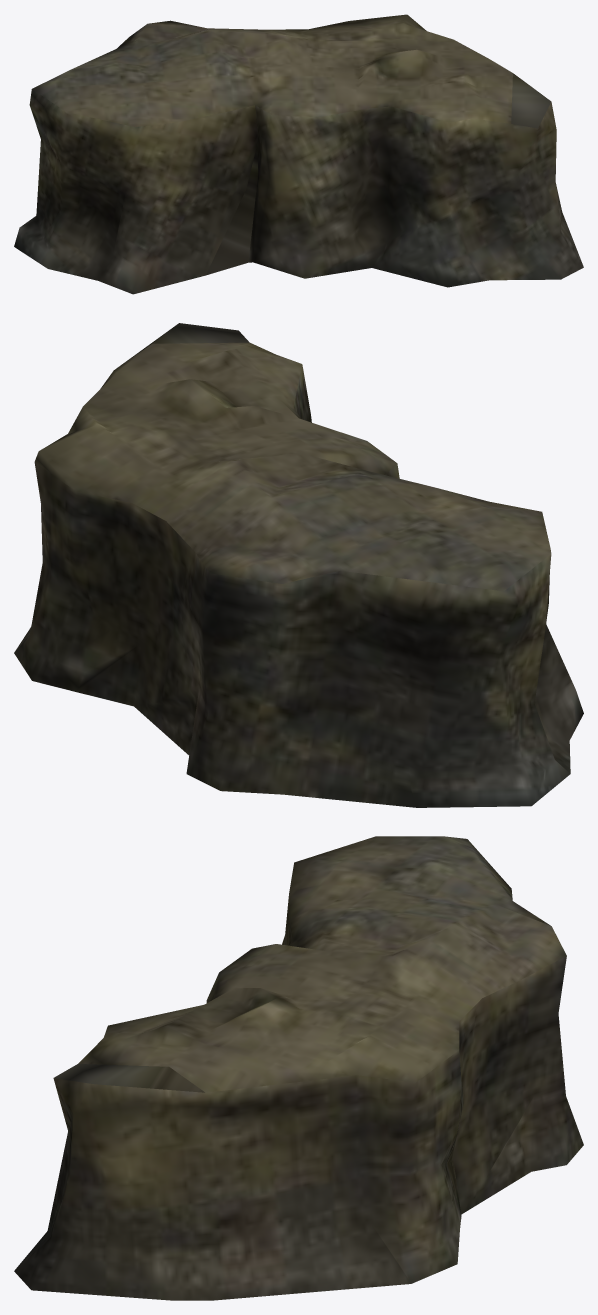
The picture shows the model from 3 angles, top to bottom: view 1: azimuth 30°, elevation 25°; view 2: azimuth 150°, elevation 25°; view 3: azimuth 270°, elevation 25°; orthographic projection. The views are drawn at different scales.
Parts seen in each view (by area): view 1: cliff2; view 2: cliff2; view 3: cliff2.
Part boxes in pixels (left/top/right/bottom): cliff2: left=14, top=14, right=583, bottom=294; cliff2: left=14, top=323, right=583, bottom=807; cliff2: left=14, top=836, right=583, bottom=1300.
Bounding box in the file's own units: 19.64 × 7.75 × 17.36.
Materials: 1 (1 with a texture image).
